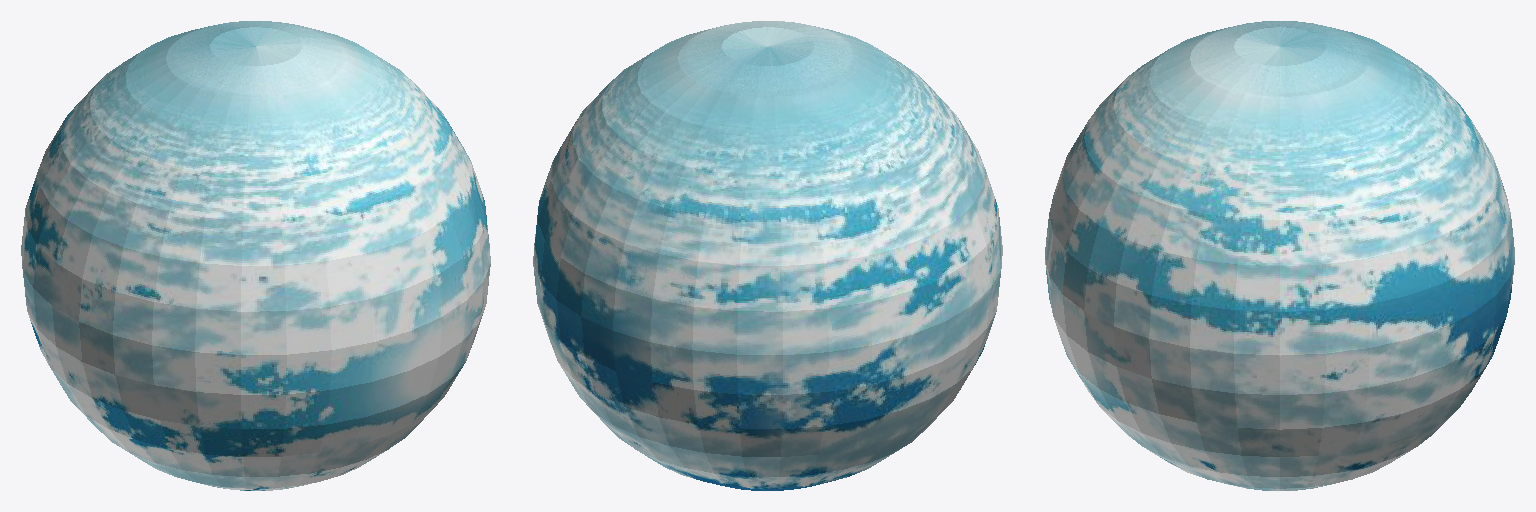
3 renders of one model, left to right at view 1: azimuth 30°, elevation 25°; view 2: azimuth 150°, elevation 25°; view 3: azimuth 270°, elevation 25°, orthographic.
Parts seen in each view (by area): view 1: Sphere; view 2: Sphere; view 3: Sphere.
Part boxes in pixels (x1,y1,x2,y2): Sphere: (21,21,490,490); Sphere: (533,21,1002,490); Sphere: (1045,21,1514,490).
Size of the model in its own units: 42.01 by 41.2 by 42.01.
1 materials, 1 textured.